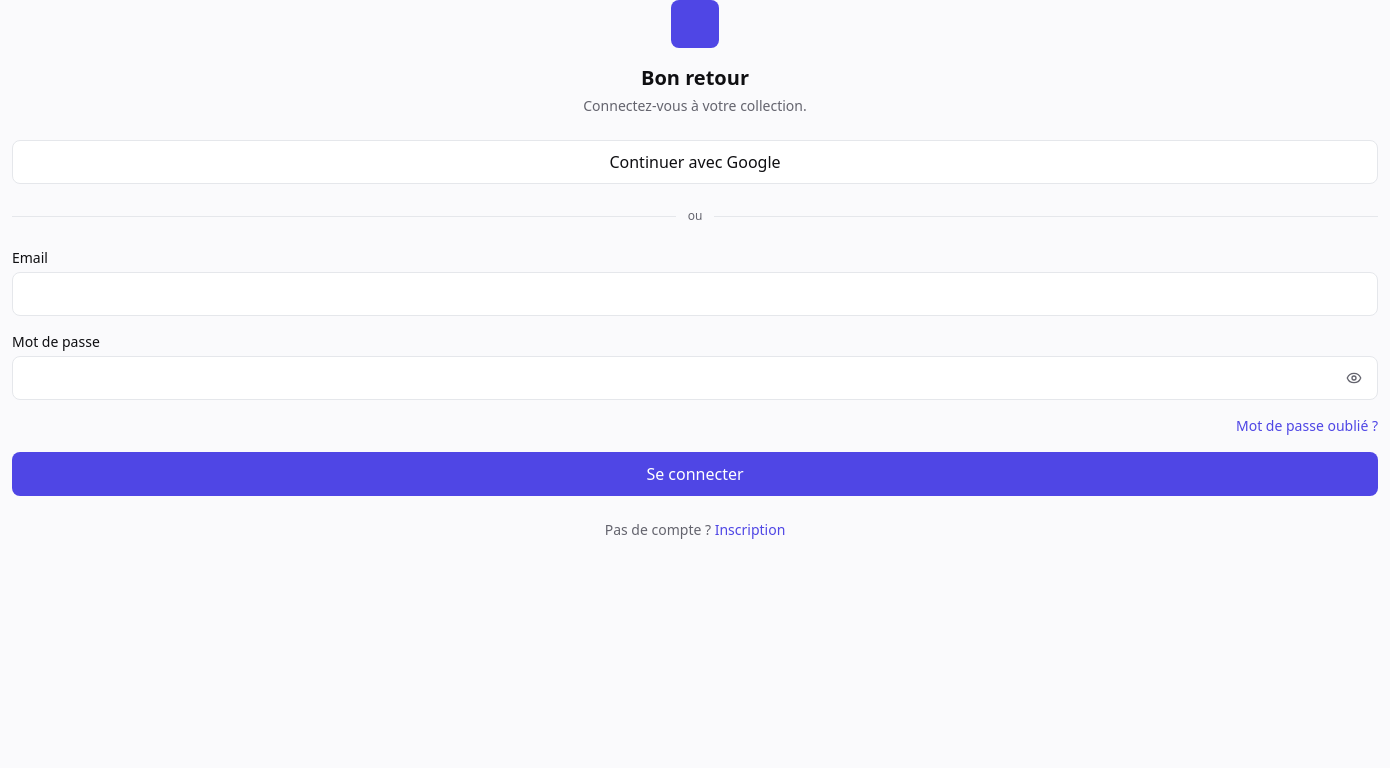
Test: LoginPage › shows a generic error on invalid credentials
The image size is (1390, 768).
Type "foo@x.com" into the field labelled "Email" at (695, 294), box [12,272,1378,316]
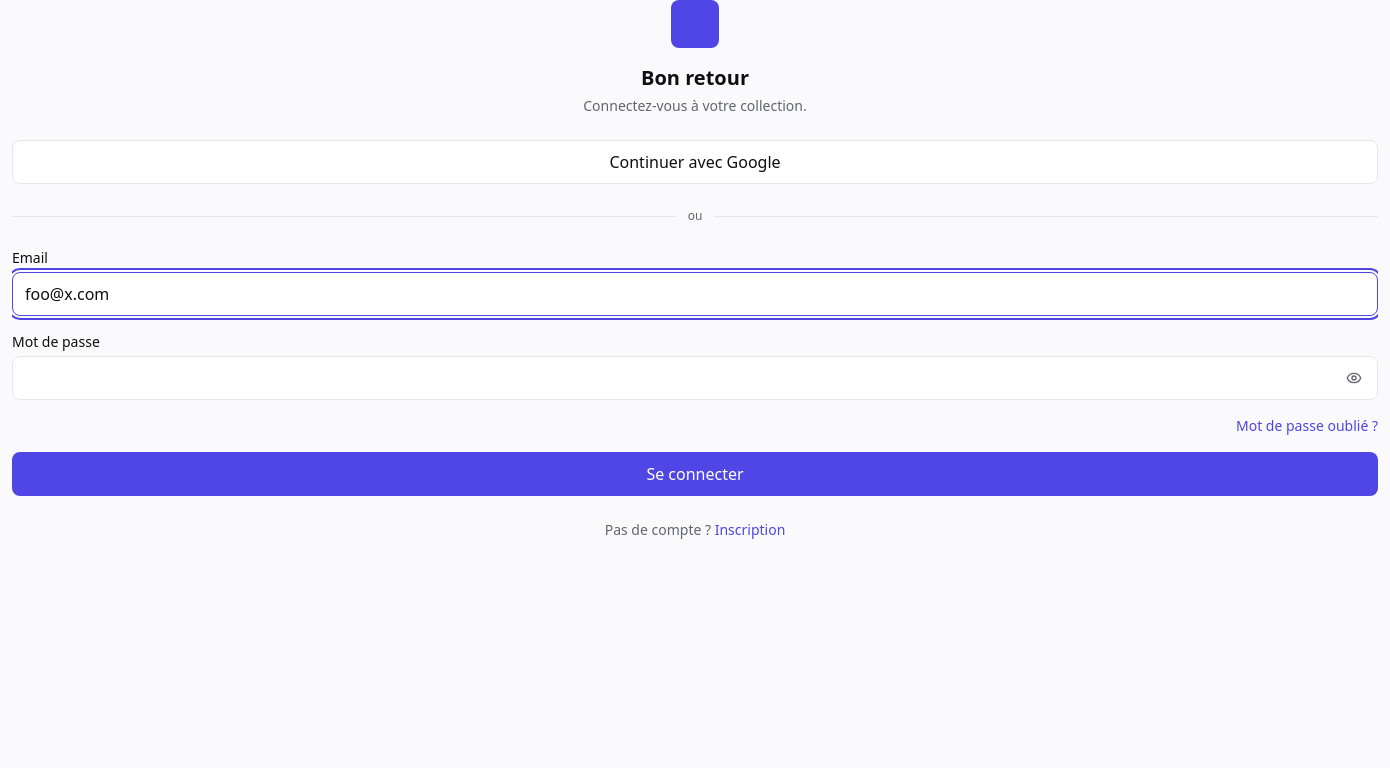
Type "Strong123" into the password field labelled "Mot de passe" at (695, 378), box [12,356,1378,400]
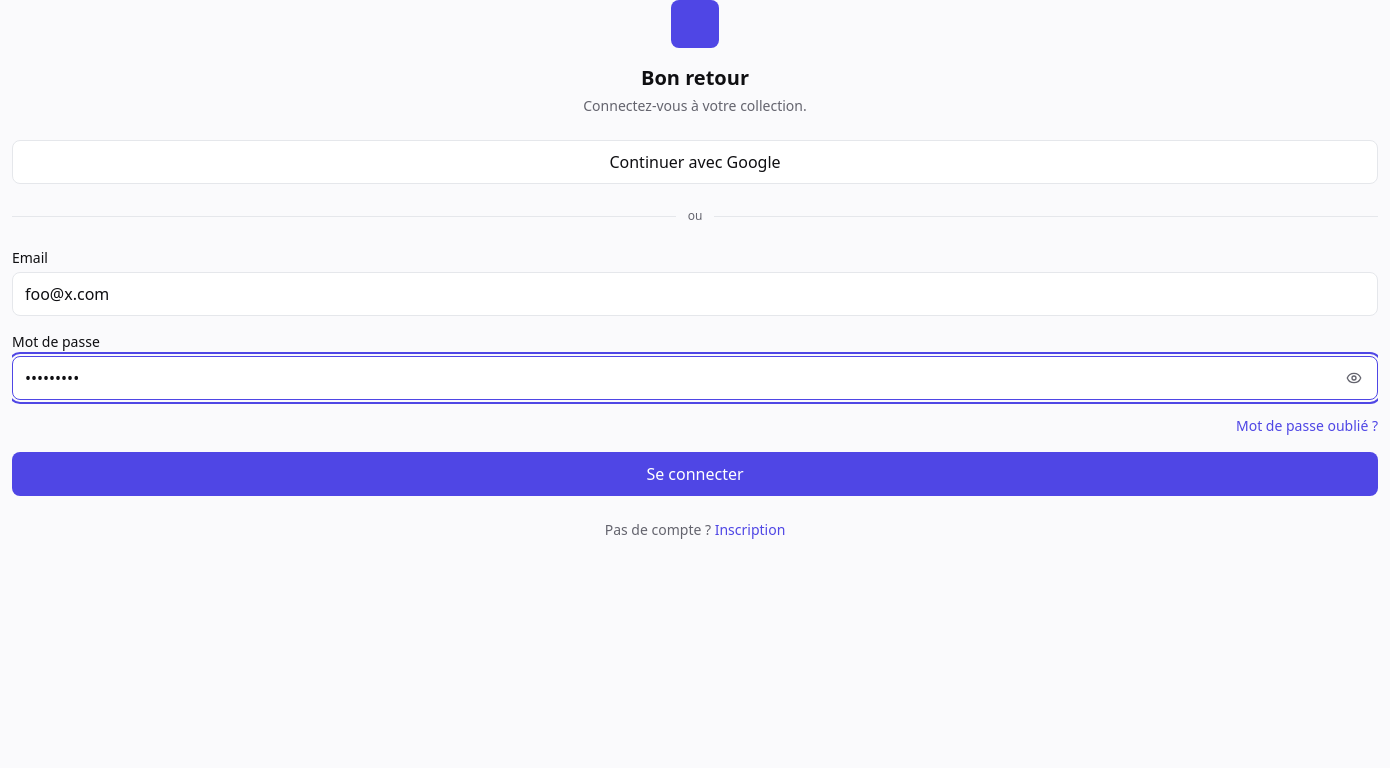
Click the button "Se connecter" at (695, 474), box [12,452,1378,496]
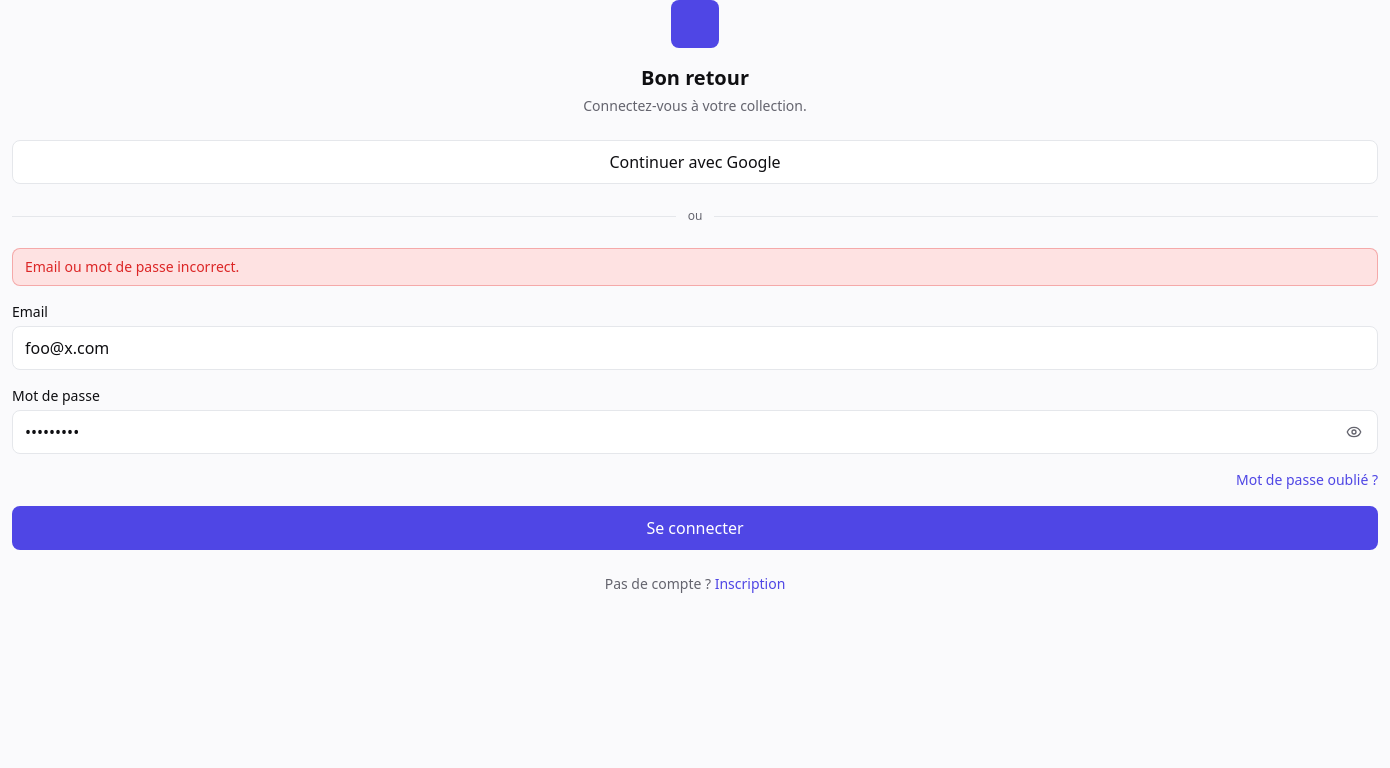
Check: the message shows "incorrect", box [25,257,239,276]
